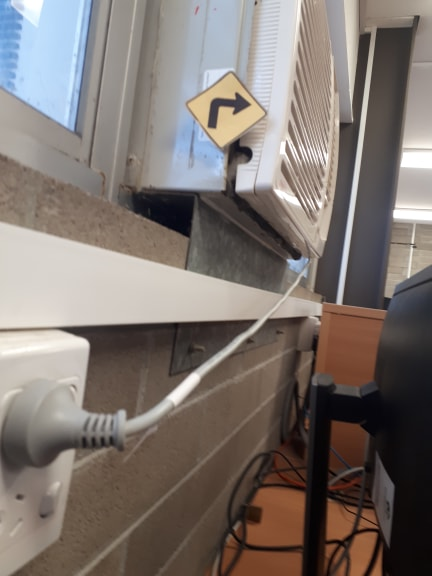right: (172, 50, 277, 162), (198, 79, 253, 141), (201, 85, 271, 118)
